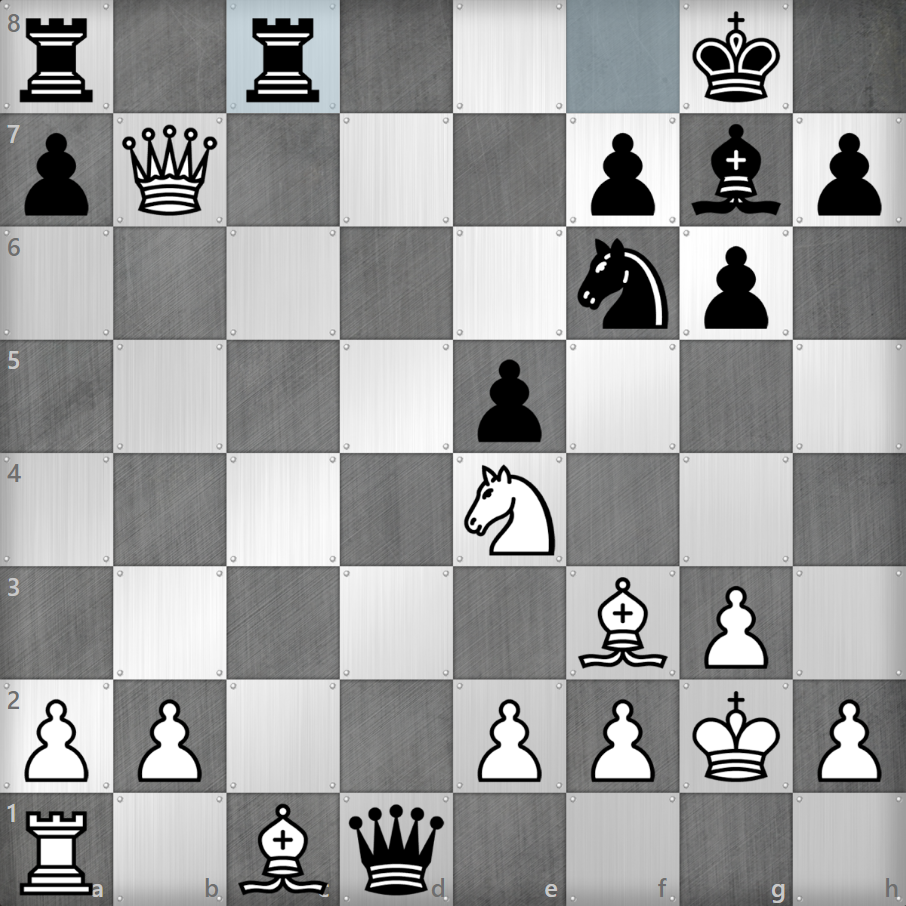B: (576, 575, 670, 671), (240, 802, 329, 897)
K: (689, 688, 783, 785)
N: (461, 461, 558, 559)
P: (22, 695, 93, 785), (132, 694, 203, 784), (472, 695, 543, 785), (587, 694, 658, 784), (697, 582, 768, 672), (818, 696, 886, 786)
Q: (121, 122, 218, 219)
R: (16, 807, 98, 898)
b: (690, 122, 782, 220)
k: (688, 8, 782, 107)
n: (576, 235, 671, 333)
p: (812, 129, 885, 220), (20, 129, 93, 220), (474, 357, 546, 447), (702, 243, 771, 333), (590, 130, 656, 221)
q: (346, 801, 446, 896)
r: (14, 14, 100, 107), (240, 13, 324, 105)
